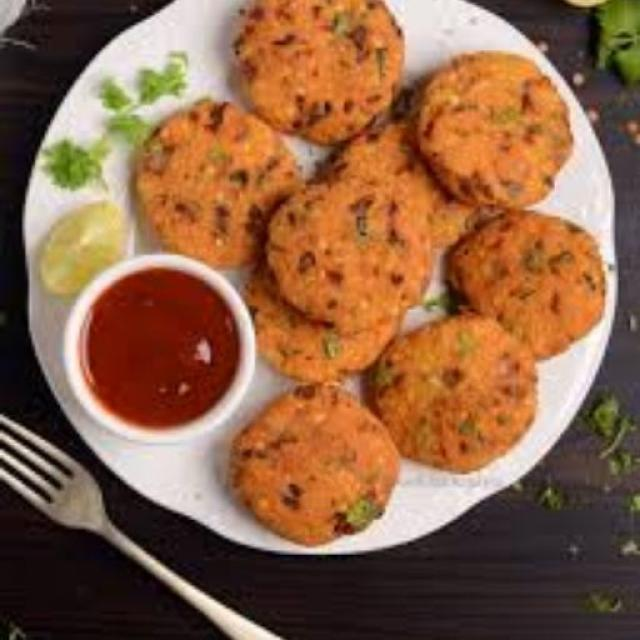dhal wade: (354, 295, 556, 474), (227, 387, 403, 544), (407, 64, 598, 204), (258, 190, 438, 320), (128, 133, 274, 262)
